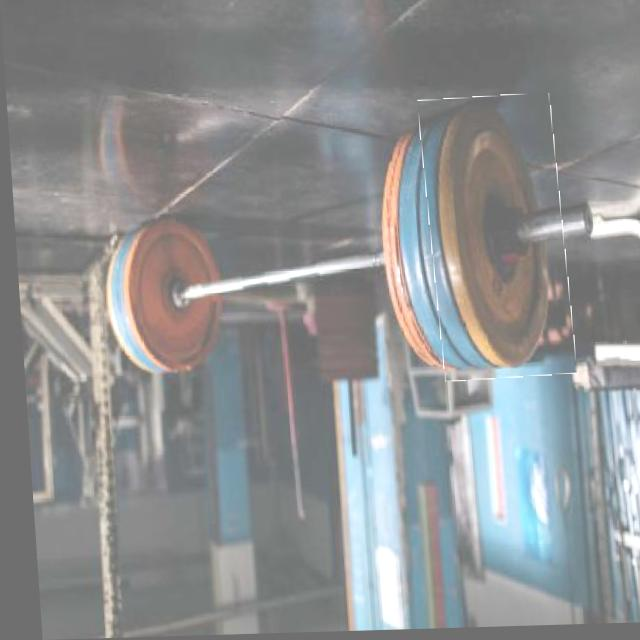barbell: (419, 98, 571, 385)
